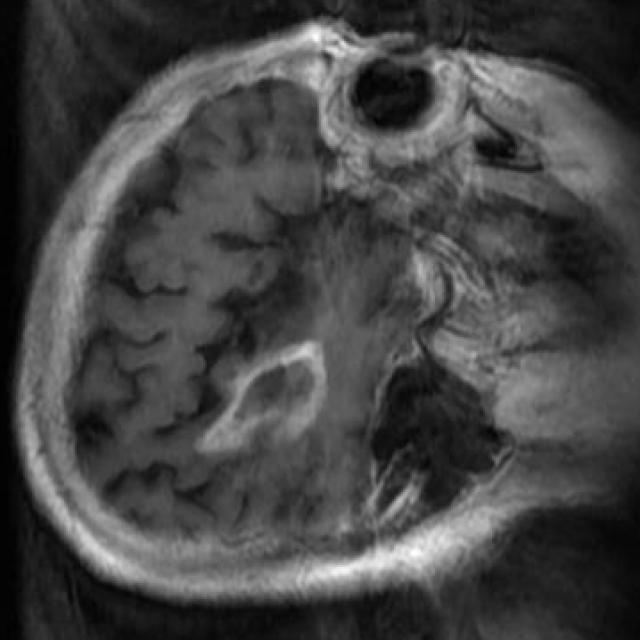glioma: (196, 341, 326, 456)
